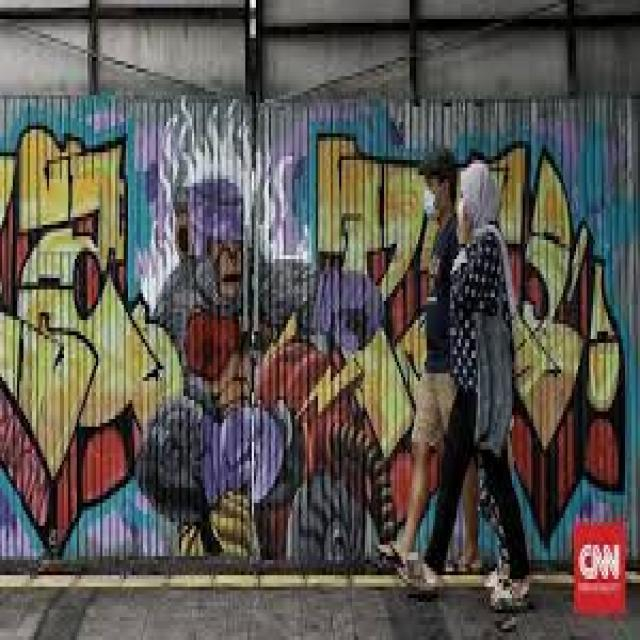-: (314, 132, 628, 541), (142, 172, 396, 562), (0, 124, 184, 560)
